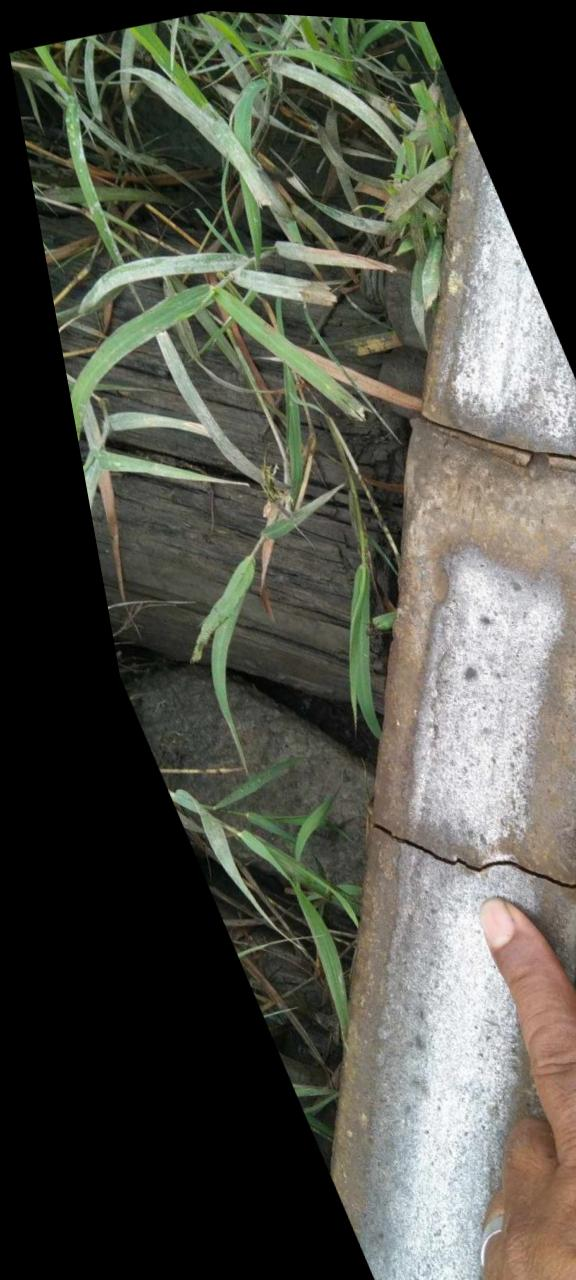person: (295, 723, 576, 995), (327, 305, 576, 593)
